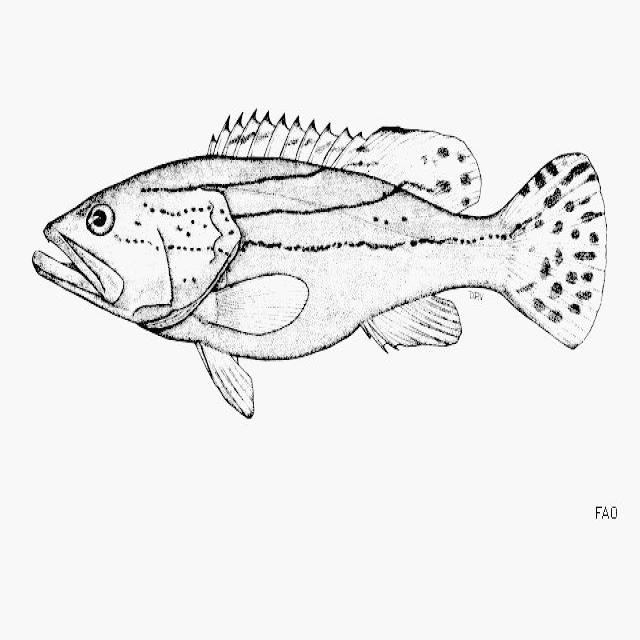ikan: (31, 106, 607, 418)
